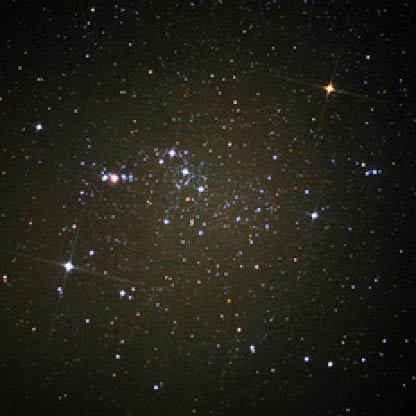Orion: (32, 241, 86, 293), (305, 66, 358, 112), (301, 203, 359, 241), (25, 116, 49, 142), (161, 137, 182, 162), (174, 160, 195, 181), (190, 182, 213, 201)
